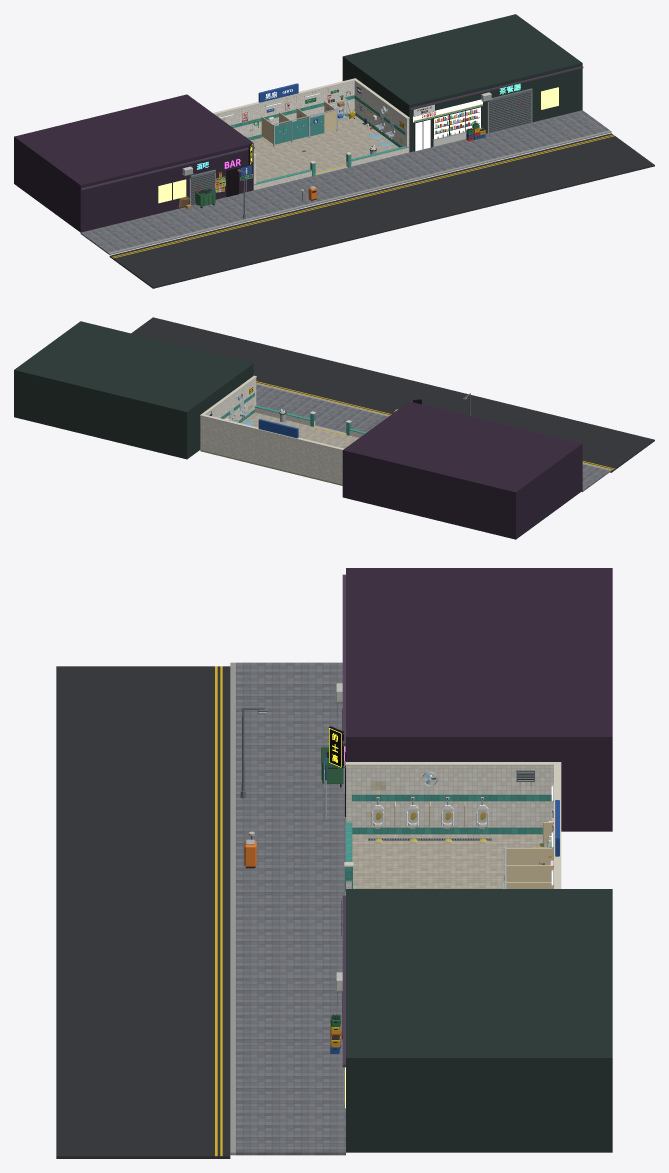
The model's file is level_mens.glb.
The picture shows the model from 3 angles, top to bottom: view 1: azimuth 30°, elevation 25°; view 2: azimuth 150°, elevation 25°; view 3: azimuth 270°, elevation 25°; orthographic projection. The views are drawn at different scales.
Visible parts, largest first — view 1: neighbours, street, walls, floor, decor, stall_partitions, signage; view 2: neighbours, street, walls, floor, signage; view 3: street, neighbours, walls, floor, stall_partitions, decor.
Part boxes in pixels (<box>): neighbours: <box>14,14,583,232</box>; street: <box>80,110,654,288</box>; walls: <box>213,78,409,190</box>; floor: <box>250,115,398,182</box>; decor: <box>195,87,403,218</box>; stall_partitions: <box>261,101,337,146</box>; signage: <box>240,83,298,197</box>; neighbours: <box>14,321,583,539</box>; street: <box>131,317,654,491</box>; walls: <box>200,375,366,484</box>; floor: <box>200,412,358,485</box>; signage: <box>258,419,298,438</box>; street: <box>56,662,345,1158</box>; neighbours: <box>329,568,612,1152</box>; walls: <box>344,761,561,891</box>; floor: <box>352,834,546,888</box>; stall_partitions: <box>503,845,553,888</box>; decor: <box>240,707,553,895</box>.
Bounding box in the file's own units: 40 × 3.92 × 19.2.
103 materials, 5 textured.
